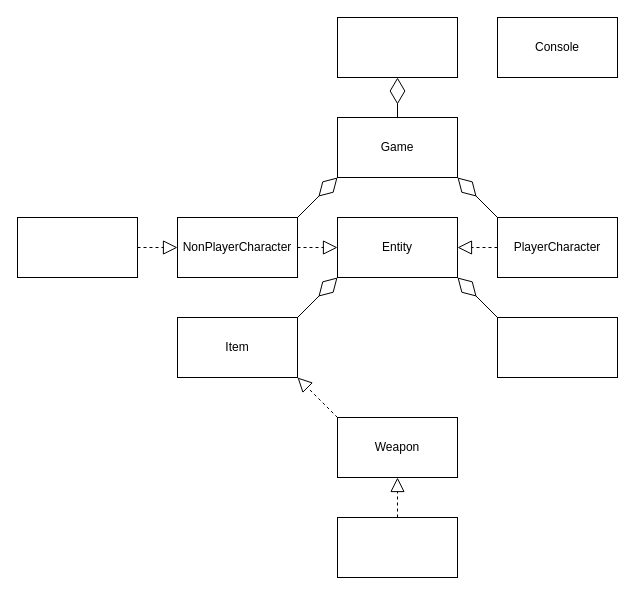
Some shapes in this 635 by 595 pixel diagram are drawn without their labels. Each missing label, with the box of its shape:
Dummy: (16, 216, 138, 278)
Effect: (496, 316, 618, 378)
Sword: (336, 516, 458, 578)
System: (336, 16, 458, 78)
